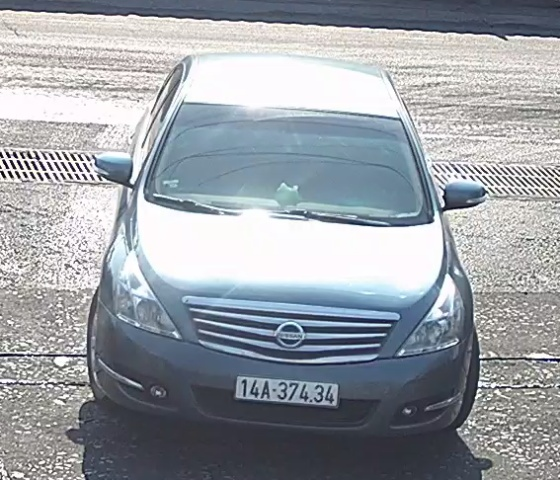vehicle plate: (235, 367, 347, 415)
